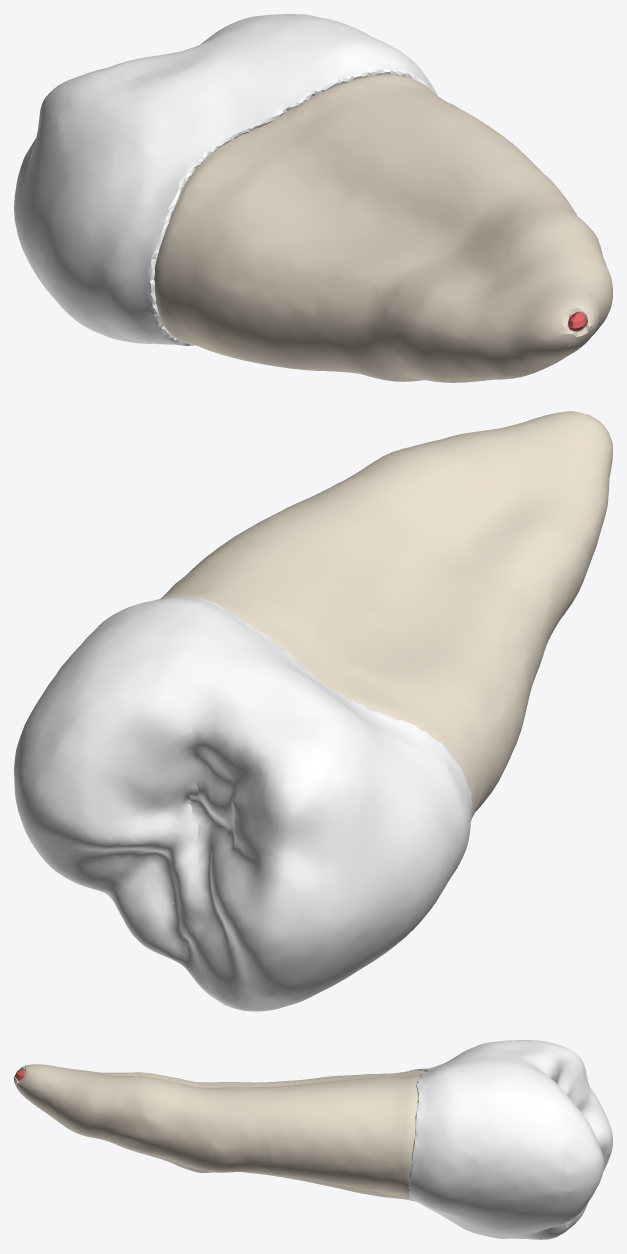
Rendered from 恒牙上颌第二双尖牙.fbx.
The picture shows the model from 3 angles, top to bottom: view 1: azimuth 30°, elevation 25°; view 2: azimuth 150°, elevation 25°; view 3: azimuth 270°, elevation 25°; orthographic projection. The views are drawn at different scales.
Visible parts, largest first — view 1: texture_B, texture_W; view 2: texture_W, texture_B; view 3: texture_B, texture_W.
Part boxes in pixels (x1,y1,x2,y2): texture_B: (154, 74, 612, 382); texture_W: (14, 14, 437, 345); texture_W: (14, 597, 472, 1011); texture_B: (159, 411, 612, 818); texture_B: (14, 1064, 426, 1201); texture_W: (408, 1040, 612, 1239).
Bounding box in the file's own units: 13.9 × 11 × 29.17.
3 materials, 3 textured.
